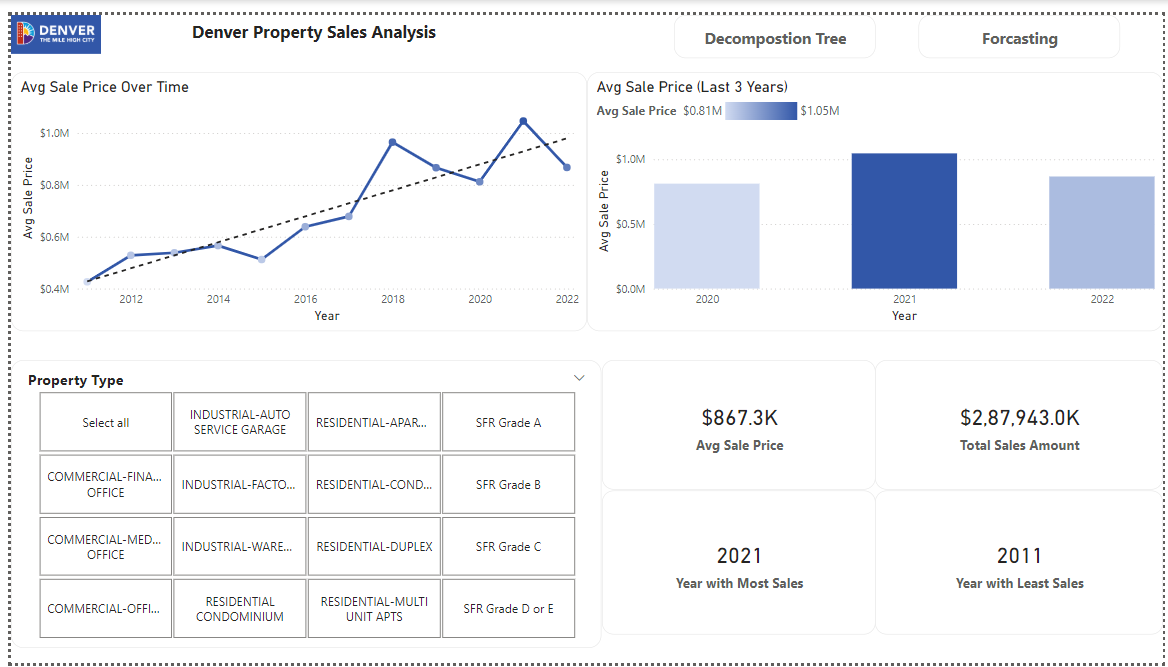

This screenshot's page, from the dashboard's own definition file:
{"tool":"powerbi","page":{"name":"Dashboard","canvas":[1280,720],"ordinal":0},"visuals":[{"type":"shape","box":[0,0,100.1,43.2],"z":0},{"type":"lineChart","title":"Avg Sale Price Over Time","fields":{"Category":["denver_property_sales.SALE_YEAR"],"Y":["denver_property_sales.AvgSalePrice"]},"box":[0,64,640,288],"z":1000},{"type":"slicer","fields":{"Values":["denver_property_sales.PROPERTY_TYPE"]},"box":[0,384,656,320],"z":2000},{"type":"clusteredColumnChart","title":"Avg Sale Price (Last 3 Years)","fields":{"Category":["denver_property_sales.SALE_YEAR"],"Y":["denver_property_sales.AvgSalePrice"]},"box":[640,64,640,288],"z":3000},{"type":"image","box":[0,0,100.1,43.2],"z":4000},{"type":"textbox","box":[128,0,416,48],"z":5000},{"type":"card","fields":{"Values":["denver_property_sales.AvgSalePrice"]},"box":[656,384,304,144],"z":7000},{"type":"card","fields":{"Values":["denver_property_sales.Total Sale Price"]},"box":[960,384,320,144],"z":8000},{"type":"card","fields":{"Values":["Max(denver_property_sales.SALE_YEAR)"]},"box":[656,528,304,160],"z":9000},{"type":"card","fields":{"Values":["Max(denver_property_sales.SALE_YEAR)"]},"box":[960,528,320,160],"z":10000},{"type":"actionButton","box":[736,0,224,48],"z":10001},{"type":"actionButton","box":[1008,0,224,48],"z":10002}]}

Visuals, with their boxes in screenshot pixels (x1, y1, x2, y2), scaled from the page's 1280x720 canvas onto the 1168x667 screenshot:
shape: {"left": 0, "top": 0, "right": 91, "bottom": 40}
"Avg Sale Price Over Time" lineChart: {"left": 0, "top": 59, "right": 584, "bottom": 326}
slicer - denver_property_sales.PROPERTY_TYPE: {"left": 0, "top": 356, "right": 599, "bottom": 652}
"Avg Sale Price (Last 3 Years)" clusteredColumnChart: {"left": 584, "top": 59, "right": 1167, "bottom": 326}
image: {"left": 0, "top": 0, "right": 91, "bottom": 40}
textbox: {"left": 117, "top": 0, "right": 496, "bottom": 44}
card - denver_property_sales.AvgSalePrice: {"left": 599, "top": 356, "right": 876, "bottom": 489}
card - denver_property_sales.Total Sale Price: {"left": 876, "top": 356, "right": 1167, "bottom": 489}
card - Max(denver_property_sales.SALE_YEAR): {"left": 599, "top": 489, "right": 876, "bottom": 637}
card - Max(denver_property_sales.SALE_YEAR): {"left": 876, "top": 489, "right": 1167, "bottom": 637}
actionButton: {"left": 672, "top": 0, "right": 876, "bottom": 44}
actionButton: {"left": 920, "top": 0, "right": 1124, "bottom": 44}
